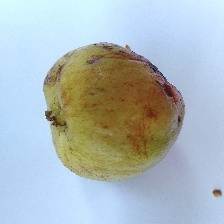guava: (23, 17, 223, 211)
